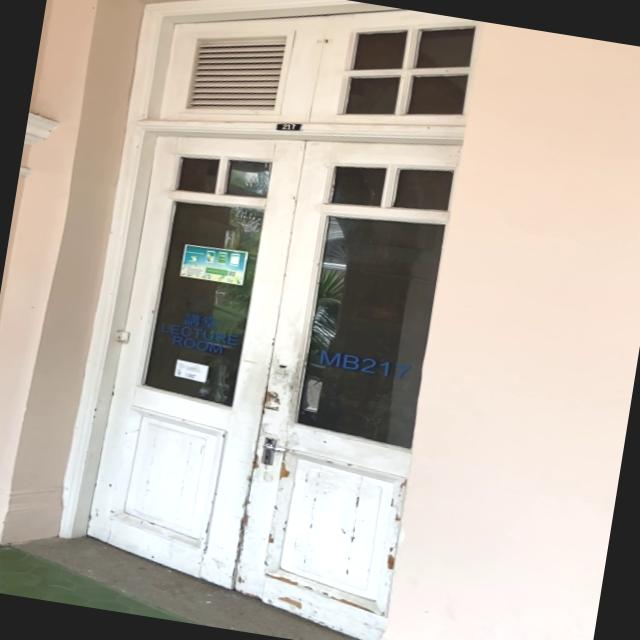room217: (275, 119, 303, 134)
room217Window: (312, 347, 415, 387)
